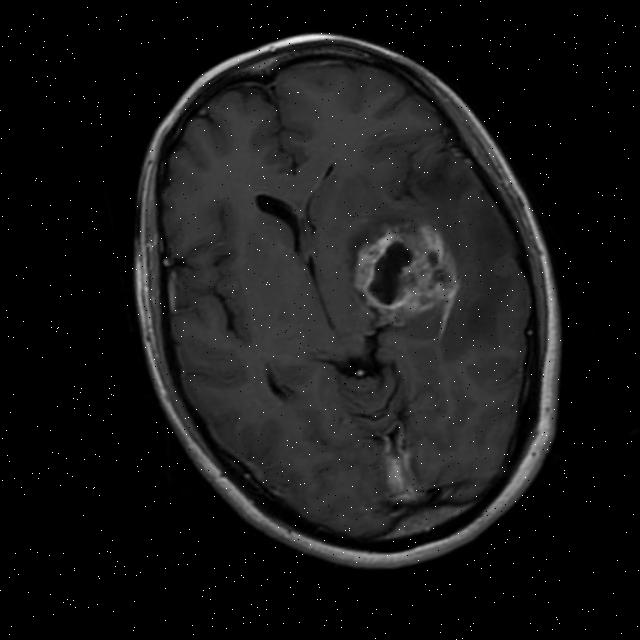Glioma: (335, 206, 471, 336)
